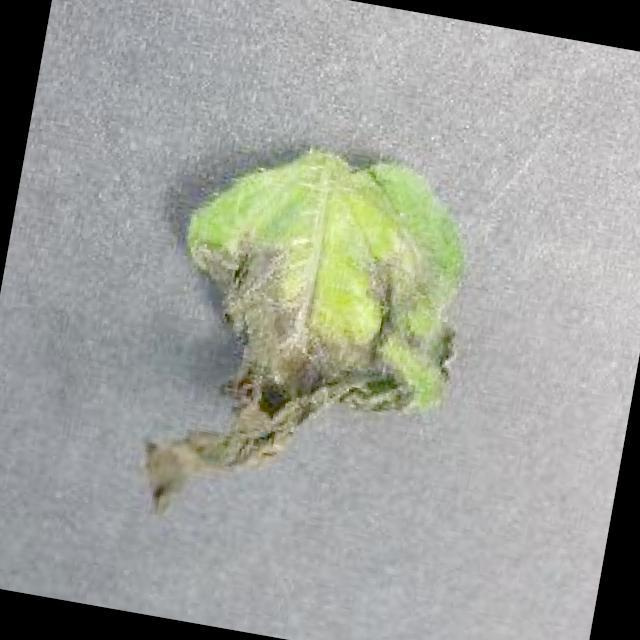Tomato late blight leaf: (130, 122, 493, 568)
